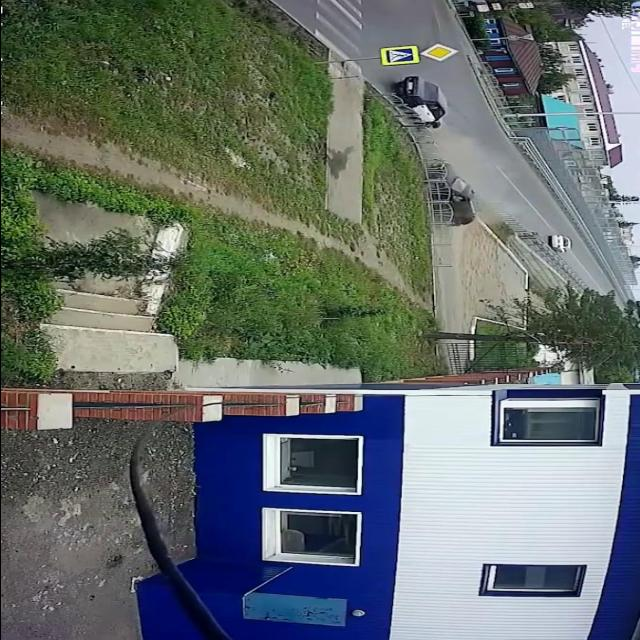accident: (384, 70, 484, 230)
